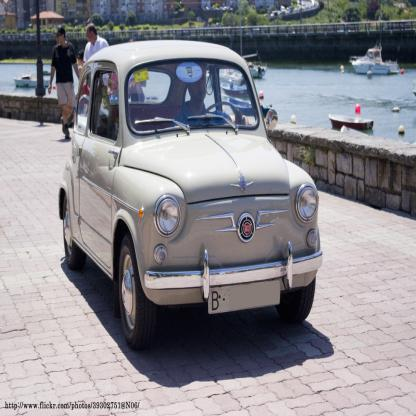Car: (58, 39, 322, 351)
